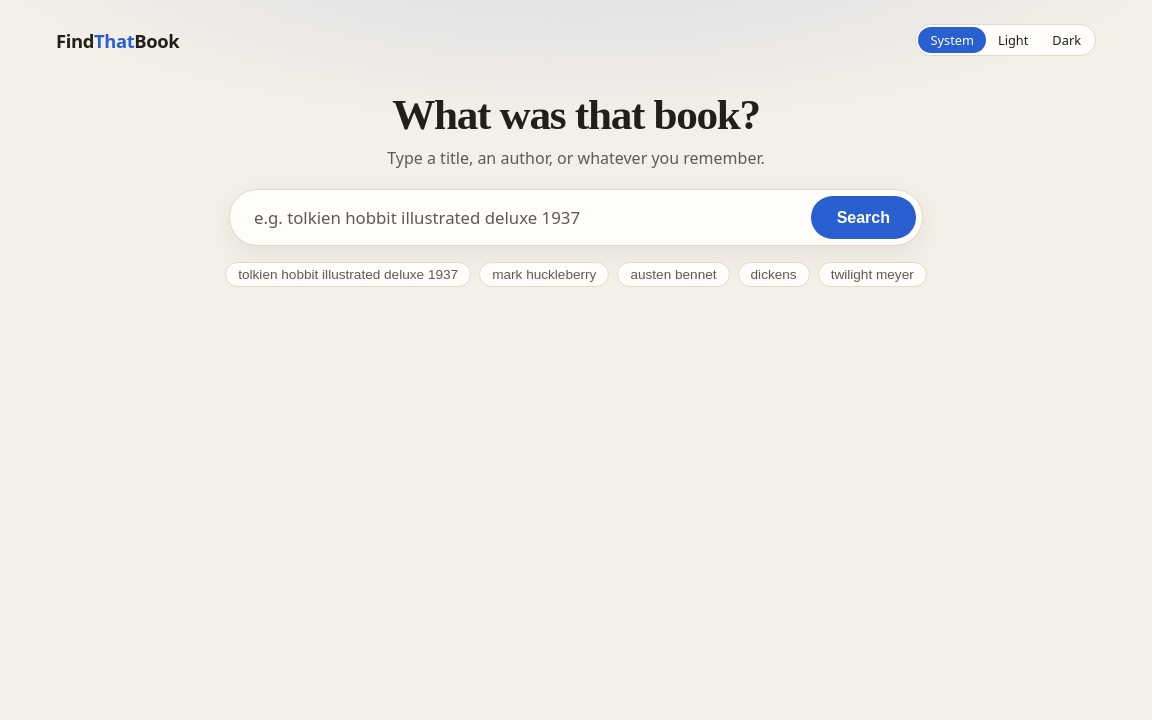
Test: the weak-match toast can be dismissed without hiding the AI notice, and returns after the next search
Type "hobbit" into the search field at (523, 218), box [236,196,811,239]
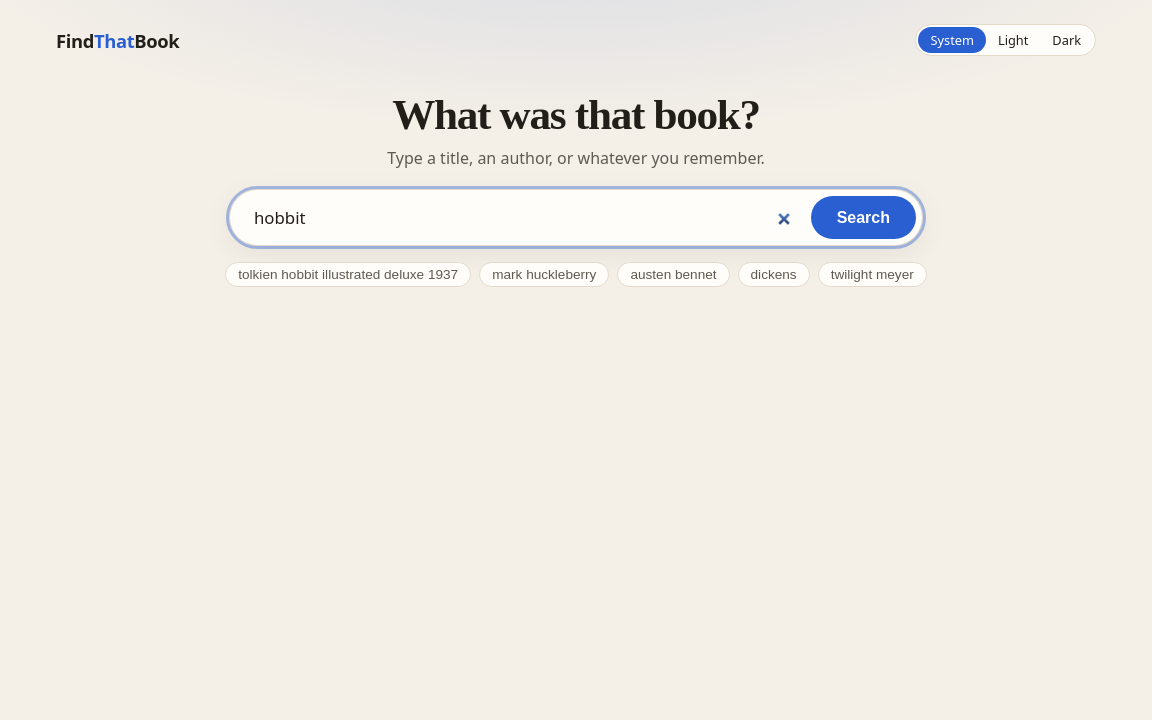
Click the button "Search" at (863, 218), box [811,196,916,239]
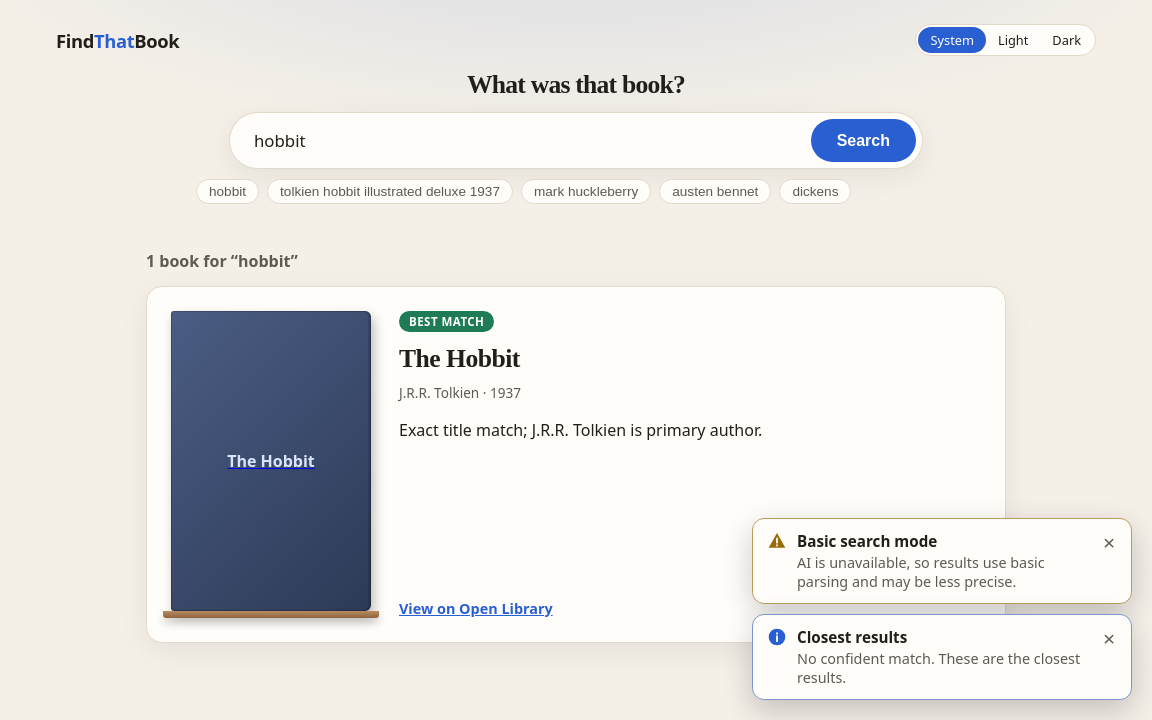
Now the text "No confident match. These are the closest results." is shown, box [797,649,1087,687]
Now the text "Closest results" is shown, box [797,627,907,647]
Click the button named "Dismiss" at (1109, 639), box [1097,627,1121,651]
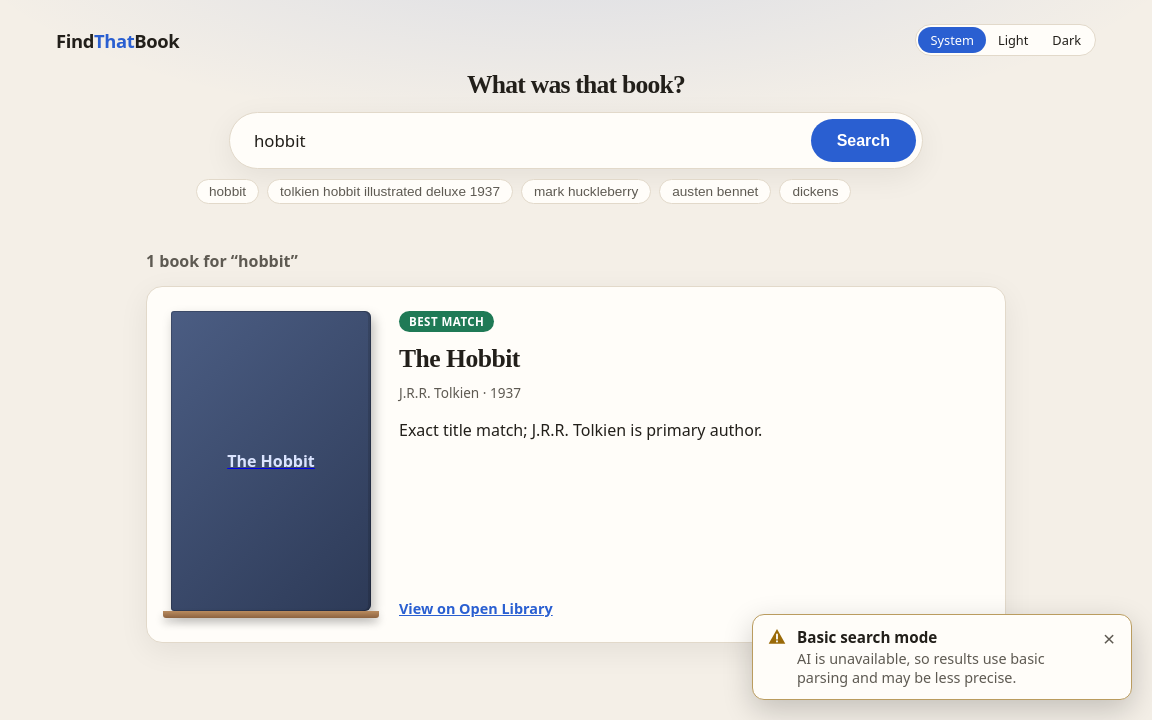
Now the text "Basic search mode" is shown, box [797,627,937,647]
Now the text "No confident match. These are the closest results." is gone
Click the button "Search" at (863, 140), box [811,119,916,162]
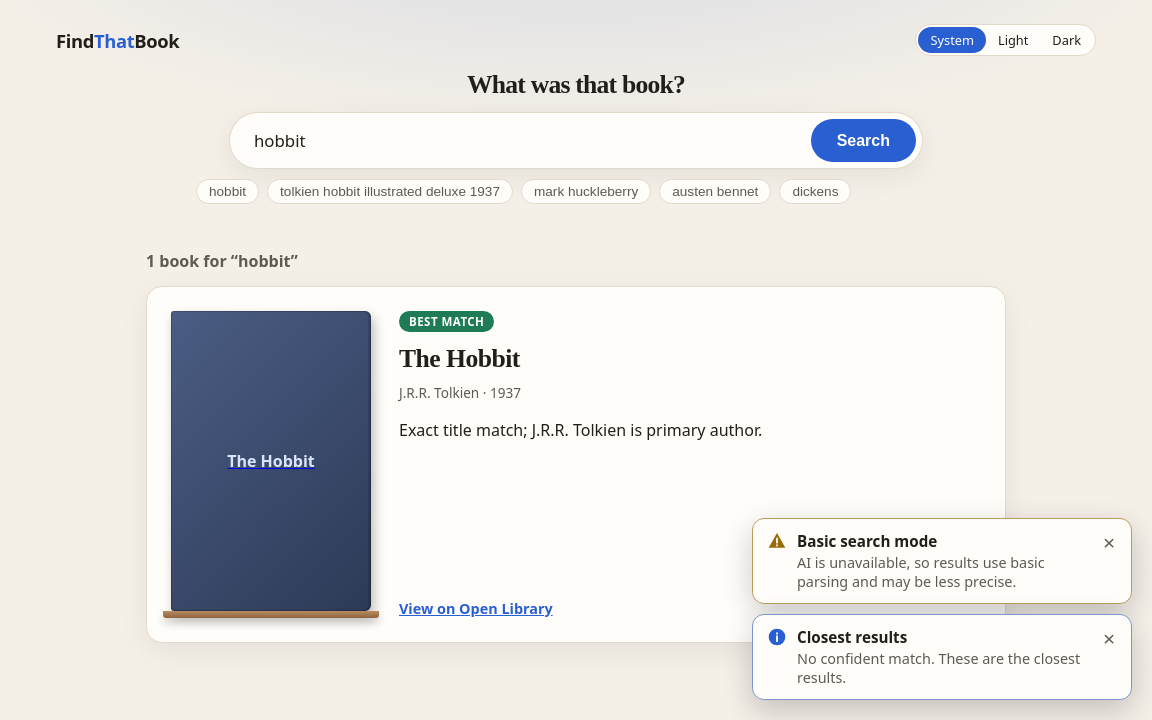
Now the text "No confident match. These are the closest results." is shown, box [797,649,1087,687]
